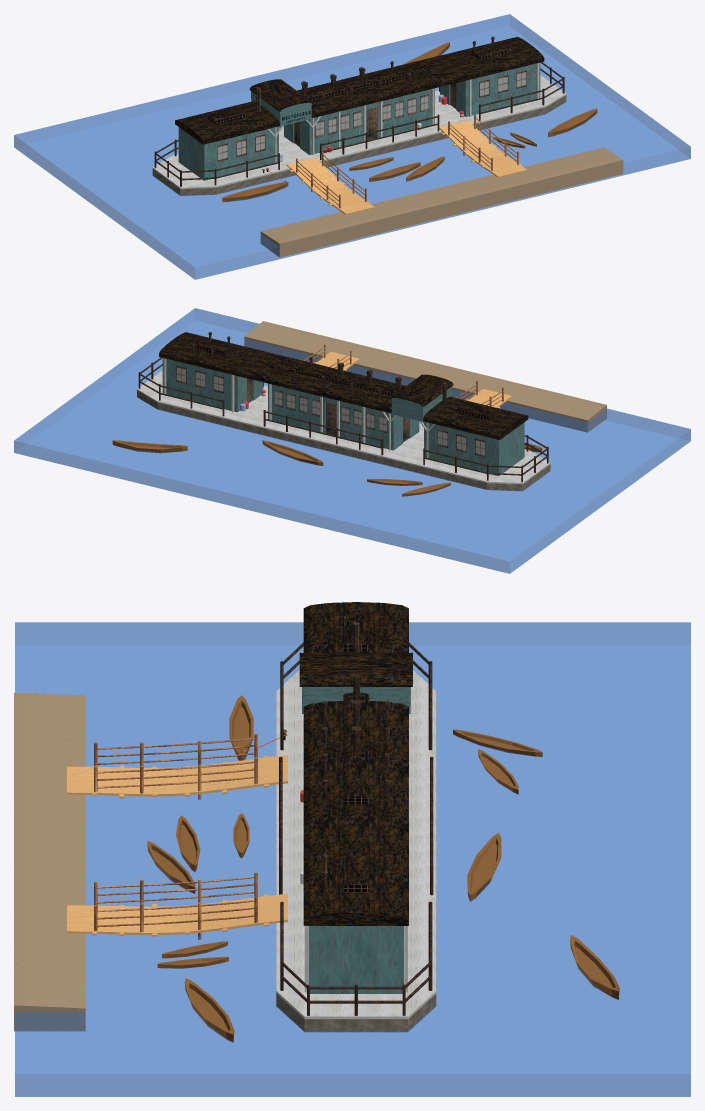
File: workship.glb
3 renders of one model, top to bottom at view 1: azimuth 30°, elevation 25°; view 2: azimuth 150°, elevation 25°; view 3: azimuth 270°, elevation 25°, orthographic. The views are drawn at different scales.
Visible parts, largest first — view 1: Plane, Cube.019, Cylinder.005, Cube.001, Cube.008, Cube.014; view 2: Plane, Cube.019, Cylinder.005, Cube.001, Cube.018, Cube.015; view 3: Plane, Cube.019, Cube.001, Cylinder.005, Cube.018, Cube.014, Cube.015, Cube.008, Cube.013, Cube.017, Cube.010.
Boxes of the visible parts, <box> form: Plane: <box>14,14,690,279</box>; Cube.019: <box>152,75,623,257</box>; Cylinder.005: <box>154,62,564,186</box>; Cube.001: <box>175,36,544,164</box>; Cube.008: <box>222,182,288,202</box>; Cube.014: <box>548,108,597,137</box>; Plane: <box>14,308,690,573</box>; Cube.019: <box>137,321,606,491</box>; Cylinder.005: <box>138,357,548,482</box>; Cube.001: <box>159,332,528,459</box>; Cube.018: <box>112,440,187,453</box>; Cube.015: <box>262,440,323,465</box>; Plane: <box>15,622,690,1096</box>; Cube.019: <box>14,670,436,1032</box>; Cube.001: <box>299,602,412,992</box>; Cylinder.005: <box>279,642,433,1015</box>; Cube.018: <box>570,935,619,999</box>; Cube.014: <box>184,978,234,1042</box>; Cube.015: <box>467,833,501,901</box>; Cube.008: <box>229,695,253,760</box>; Cube.013: <box>147,841,195,893</box>; Cube.017: <box>453,729,542,756</box>; Cube.010: <box>176,815,200,871</box>.
Bounding box in the file's own units: 22.35 × 3.76 × 14.17.
Materials: 9 (3 with a texture image).
